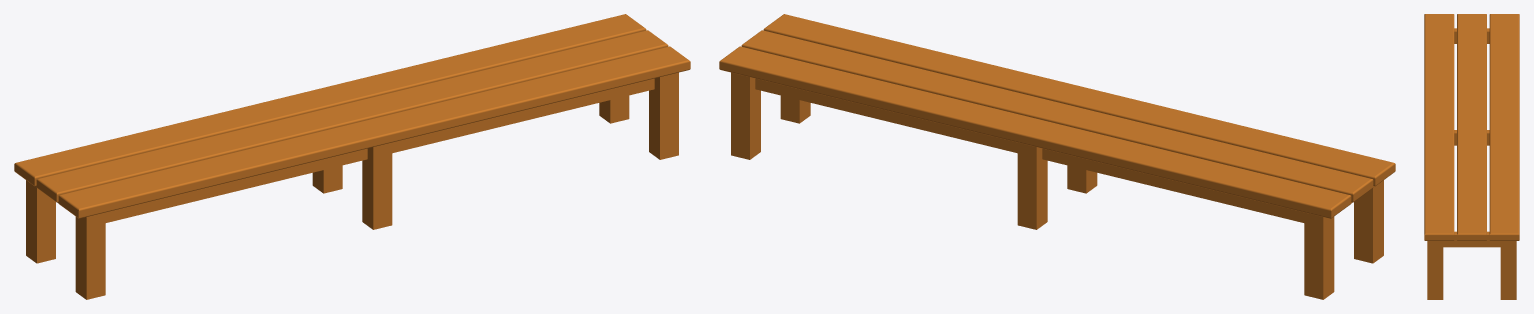
3 views of the same model, side by side, from view 1: azimuth 30°, elevation 25°; view 2: azimuth 150°, elevation 25°; view 3: azimuth 270°, elevation 25° (orthographic). The views are drawn at different scales.
Parts seen in each view (by area): view 1: mesh2_mesh2-geometry, mesh1_mesh1-geometry, mesh4_mesh4-geometry, mesh3_mesh3-geometry; view 2: mesh4_mesh4-geometry, mesh1_mesh1-geometry, mesh2_mesh2-geometry, mesh3_mesh3-geometry; view 3: mesh2_mesh2-geometry, mesh4_mesh4-geometry, mesh3_mesh3-geometry, mesh1_mesh1-geometry.
Part boxes in pixels (x1,y1,x2,y2): mesh2_mesh2-geometry: [58, 46, 690, 218]; mesh1_mesh1-geometry: [26, 72, 678, 299]; mesh4_mesh4-geometry: [14, 14, 646, 186]; mesh3_mesh3-geometry: [36, 30, 668, 202]; mesh4_mesh4-geometry: [719, 46, 1351, 218]; mesh1_mesh1-geometry: [731, 72, 1383, 299]; mesh2_mesh2-geometry: [763, 14, 1395, 186]; mesh3_mesh3-geometry: [741, 30, 1373, 202]; mesh2_mesh2-geometry: [1424, 14, 1454, 240]; mesh4_mesh4-geometry: [1489, 14, 1519, 240]; mesh3_mesh3-geometry: [1457, 14, 1486, 240]; mesh1_mesh1-geometry: [1427, 28, 1516, 299].
Bounding box in the file's own units: 0.9737 × 0.143 × 0.1775.
